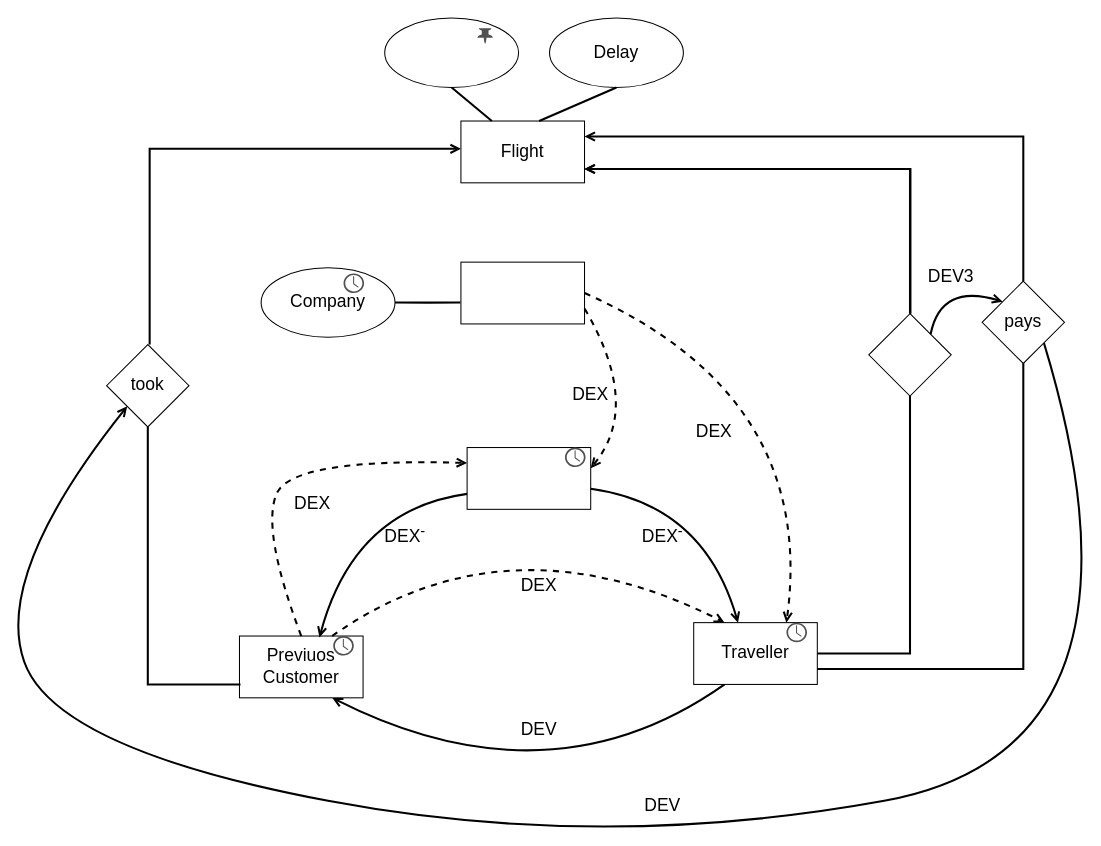
This 1101x846 diagram has some shape labels left out. Here are the shapes that lost their labels. From the top down, the box of each, then its label:
(384, 17, 519, 88): Arrival Time
(460, 261, 585, 324): Client
(868, 313, 951, 396): books
(466, 447, 591, 509): VIP-customer
